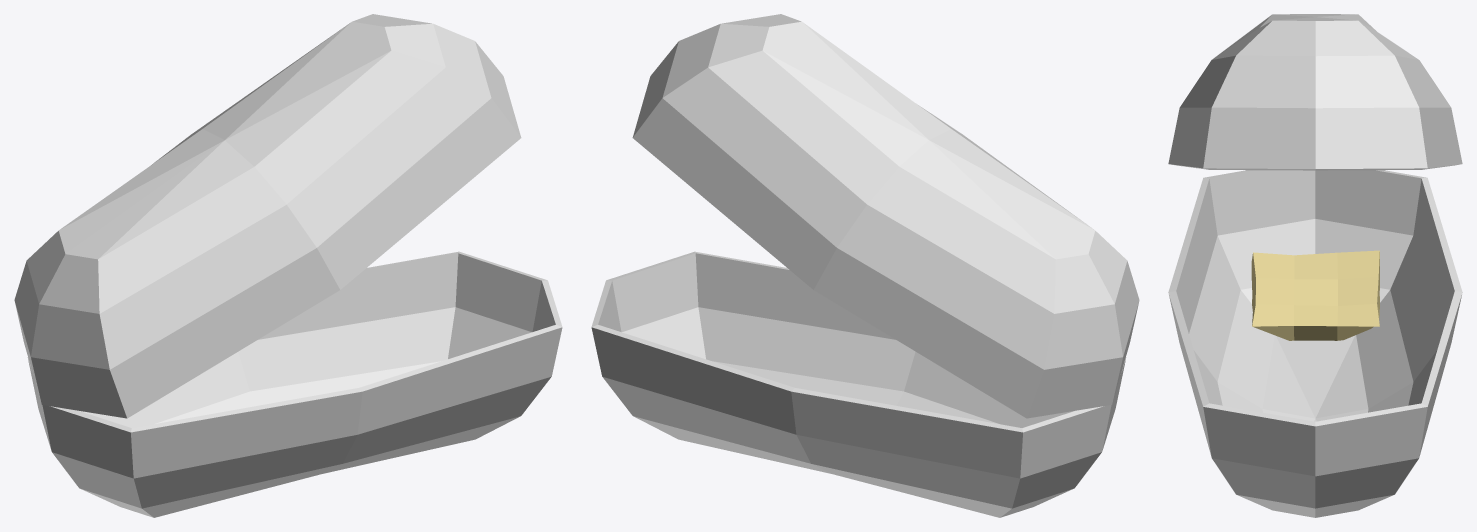
Rendered from Krovat.fbx.
3 views of the same model, side by side, from view 1: azimuth 30°, elevation 25°; view 2: azimuth 150°, elevation 25°; view 3: azimuth 270°, elevation 25° (orthographic). The views are drawn at different scales.
Parts seen in each view (by area): view 1: Sphere.001, Sphere; view 2: Sphere.001, Sphere; view 3: Sphere, Sphere.001, Cube.
Part boxes in pixels (x1,y1,x2,y2): Sphere.001: (14,14,521,418); Sphere: (27,251,562,517); Sphere.001: (632,14,1139,418); Sphere: (591,251,1126,517); Sphere: (1168,170,1462,517); Sphere.001: (1168,14,1462,170); Cube: (1251,250,1379,340).
Bounding box in the file's own units: 4.09 × 3.14 × 1.85.
